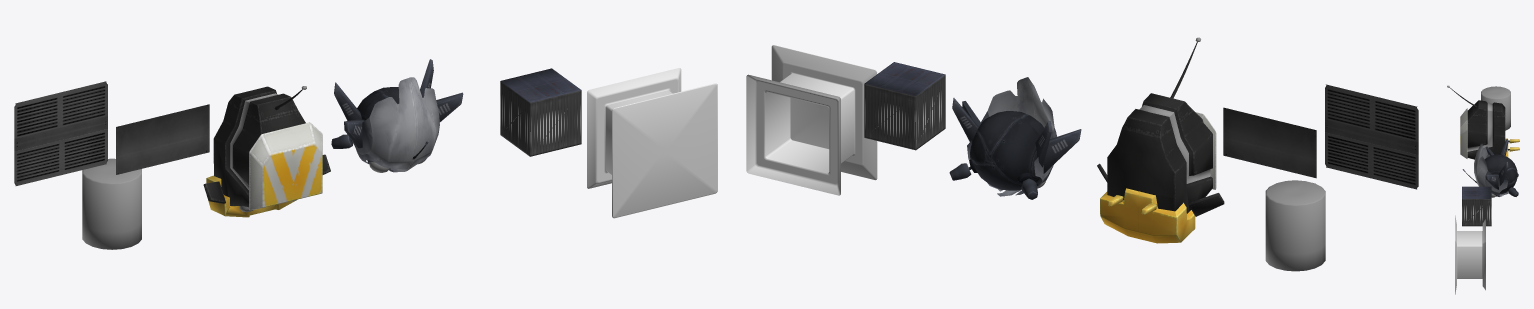
Rendered from Characters01.FBX.
3 renders of one model, left to right at view 1: azimuth 30°, elevation 25°; view 2: azimuth 150°, elevation 25°; view 3: azimuth 270°, elevation 25°, orthographic. The views are drawn at different scales.
Parts seen in each view (by area): view 1: Pillar, Player01, Enemy01, Grate, Wall, Battery, BaseBoard; view 2: Pillar, Player01, Enemy01, Grate, Wall, Battery, BaseBoard; view 3: Player01, Enemy01, Pillar, Wall, Battery.
Part boxes in pixels (x1=…): Pillar: x1=587, y1=68, x2=717, y2=218; Player01: x1=203, y1=86, x2=330, y2=217; Enemy01: x1=331, y1=59, x2=463, y2=172; Grate: x1=14, y1=81, x2=107, y2=185; Wall: x1=500, y1=68, x2=581, y2=156; Battery: x1=82, y1=158, x2=141, y2=249; BaseBoard: x1=116, y1=104, x2=209, y2=174; Pillar: x1=746, y1=45, x2=877, y2=195; Player01: x1=1097, y1=37, x2=1224, y2=243; Enemy01: x1=949, y1=77, x2=1081, y2=199; Grate: x1=1325, y1=84, x2=1418, y2=189; Wall: x1=864, y1=62, x2=945, y2=150; Battery: x1=1265, y1=180, x2=1325, y2=271; BaseBoard: x1=1223, y1=107, x2=1316, y2=178; Player01: x1=1447, y1=85, x2=1519, y2=159; Enemy01: x1=1462, y1=138, x2=1518, y2=197; Pillar: x1=1455, y1=215, x2=1485, y2=294; Wall: x1=1462, y1=186, x2=1491, y2=226; Battery: x1=1481, y1=86, x2=1510, y2=130.
Size of the model in its own units: 13.16 by 2.46 by 4.35.
